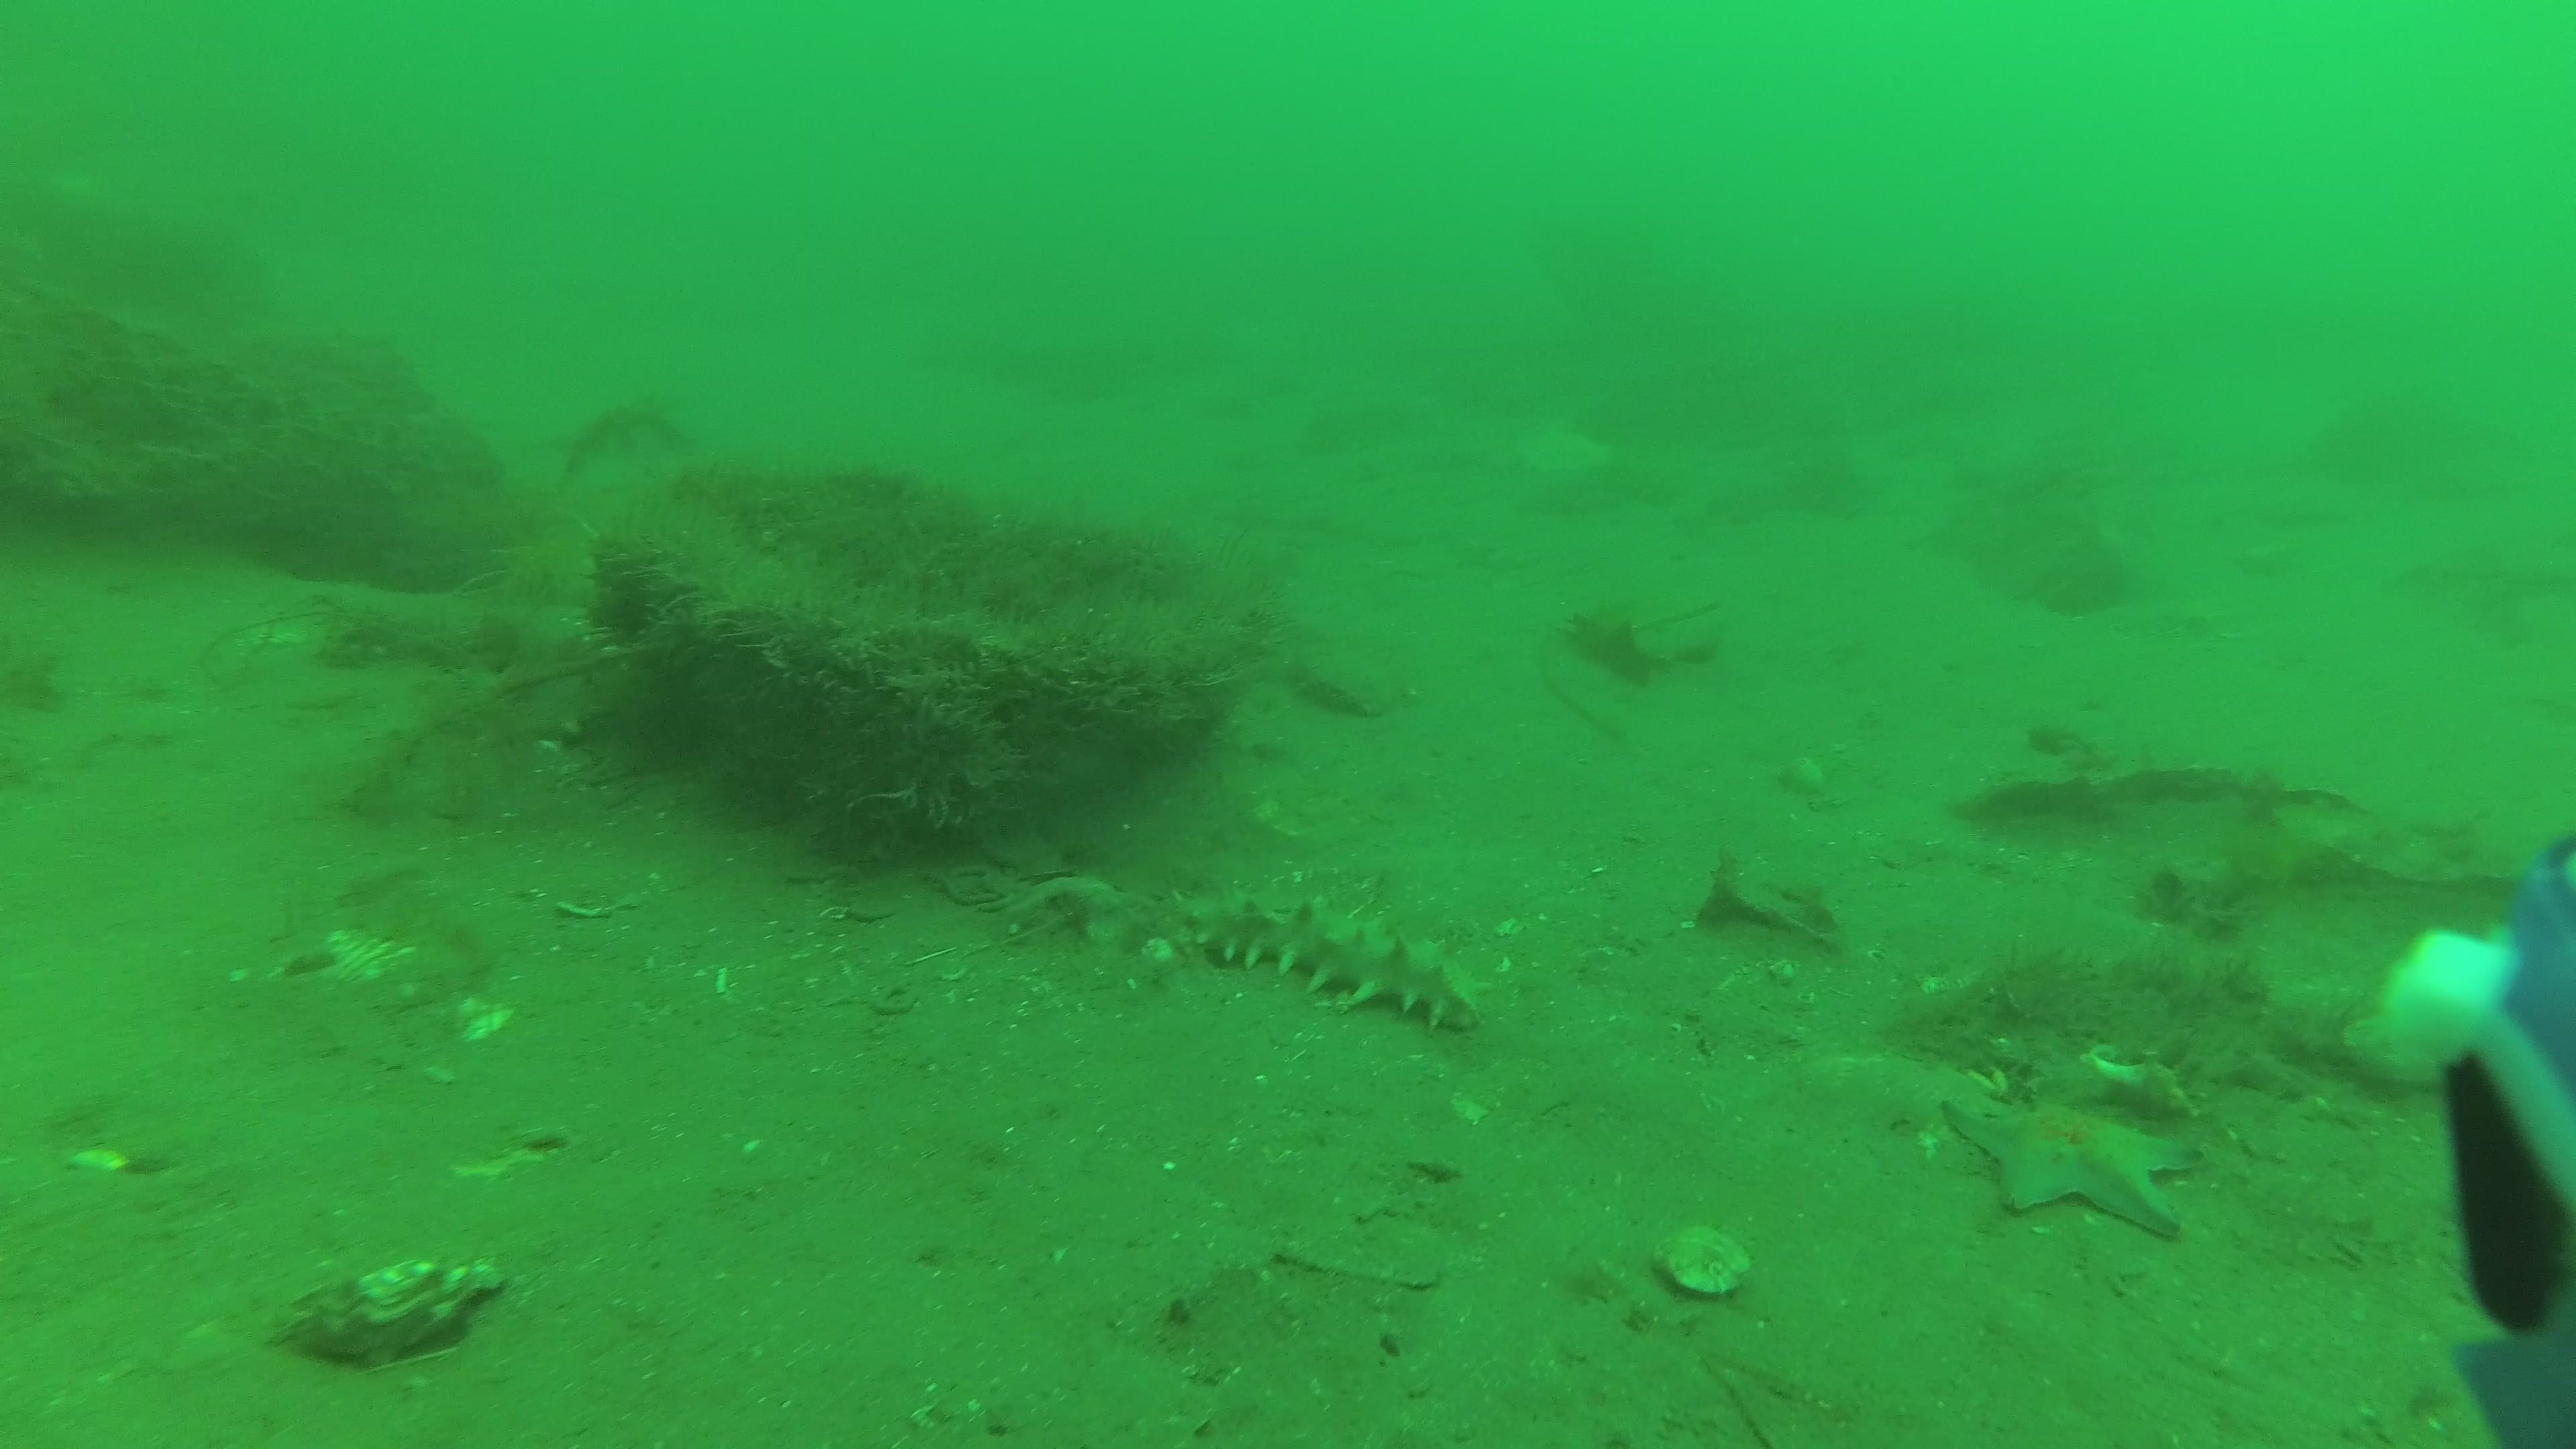holothurian: (1169, 888, 1484, 1044)
starfish: (1934, 1079, 2210, 1244)
